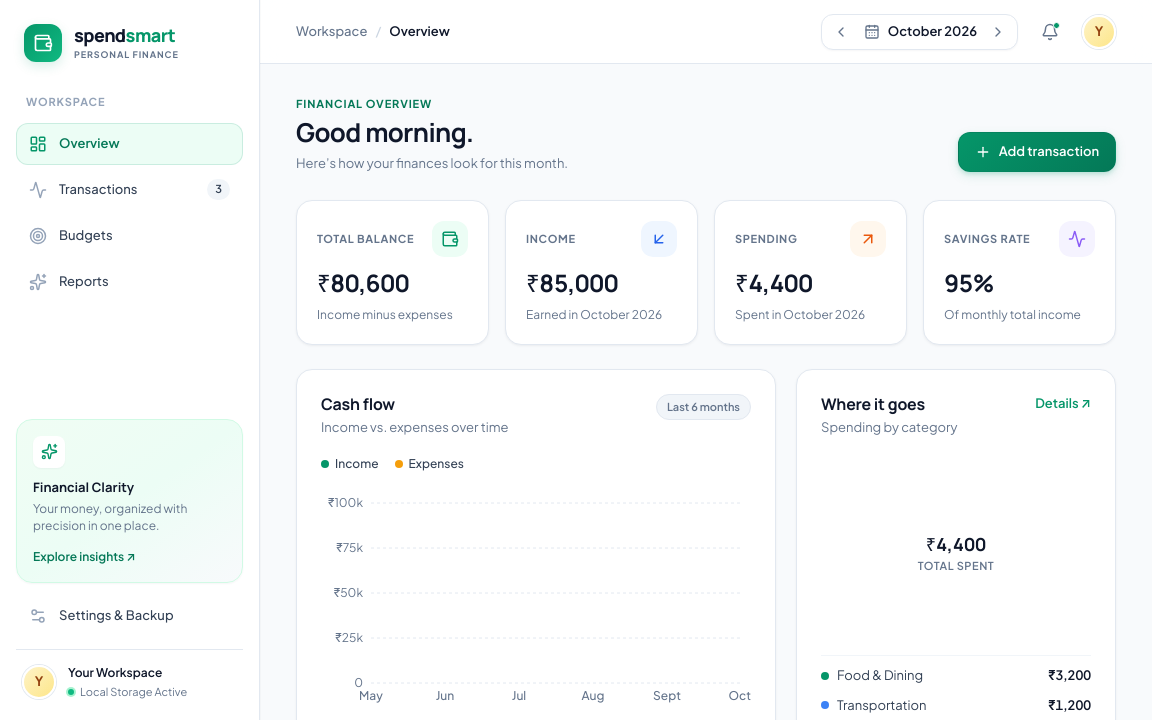
SpendSmart App UI & Interaction Tests › navigates to Transactions page and displays table and filters
Click the button "Transactions 3" at [130, 190], box [16,168,243,210]
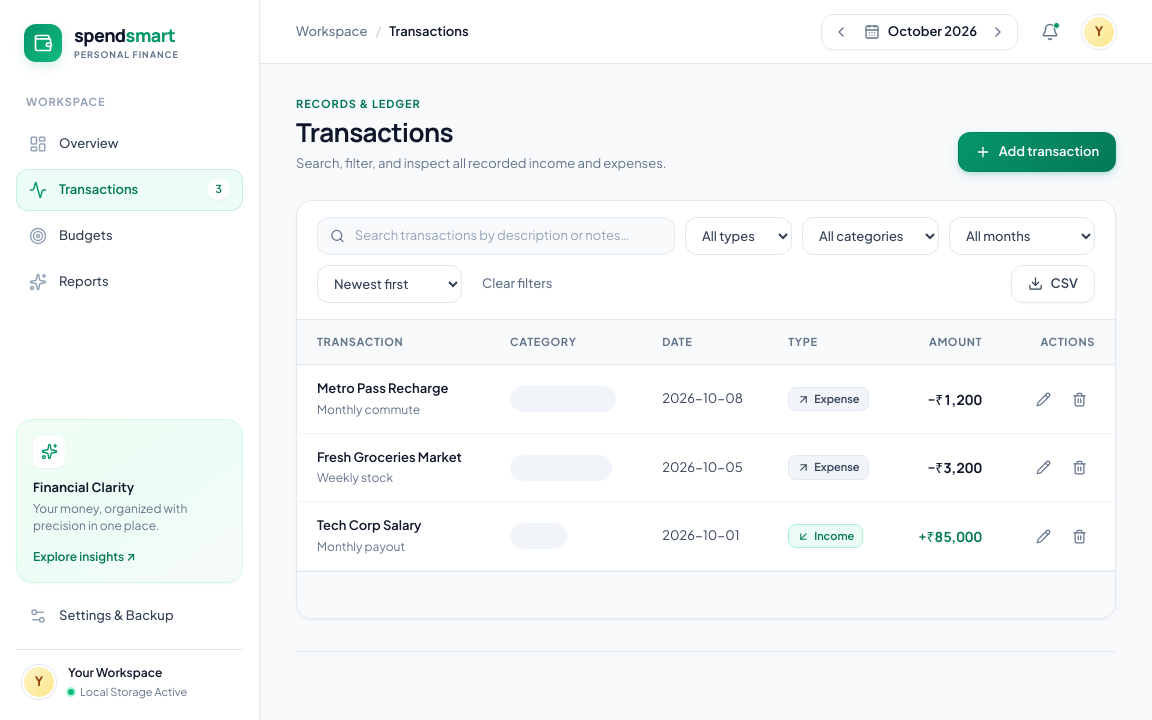
Expected: the text "Tech Corp Salary" is shown, [317,517,422,533]
Expected: the field with placeholder "Search transactions by description or notes…" is shown, [355,226,662,246]
